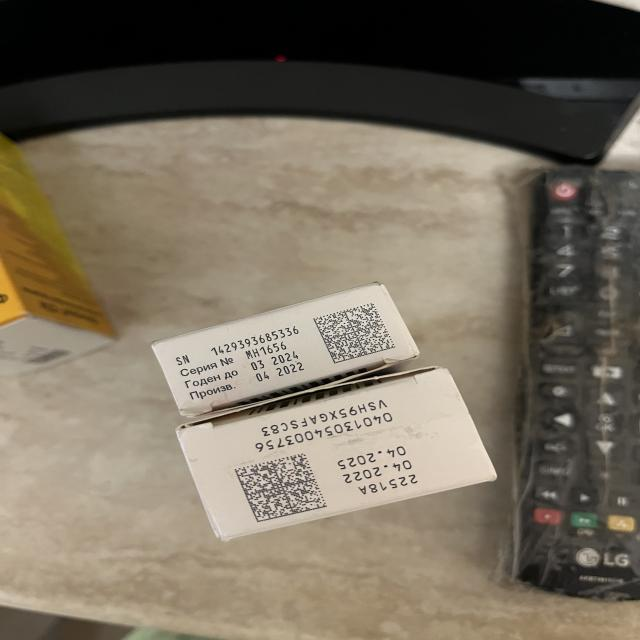datamatrix: (235, 454, 329, 524), (314, 304, 398, 364)
